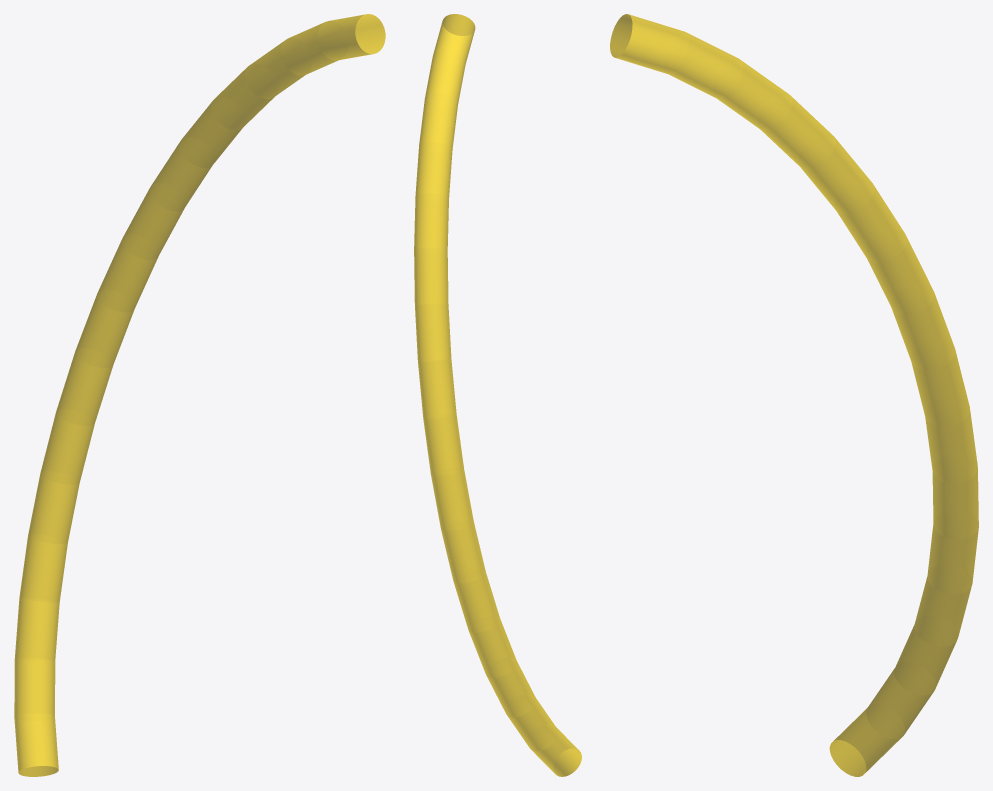
The model's file is Event_419990632_track_71.fbx.
3 views of the same model, side by side, from view 1: azimuth 30°, elevation 25°; view 2: azimuth 150°, elevation 25°; view 3: azimuth 270°, elevation 25° (orthographic). The views are drawn at different scales.
Parts seen in each view (by area): view 1: Model; view 2: Model; view 3: Model.
Boxes of the visible parts, box(x1,y1,x2,y2) form: Model: box(14, 14, 385, 776); Model: box(414, 14, 581, 776); Model: box(610, 14, 978, 776).
Size of the model in its own units: 0.3015 by 0.852 by 0.3231.
